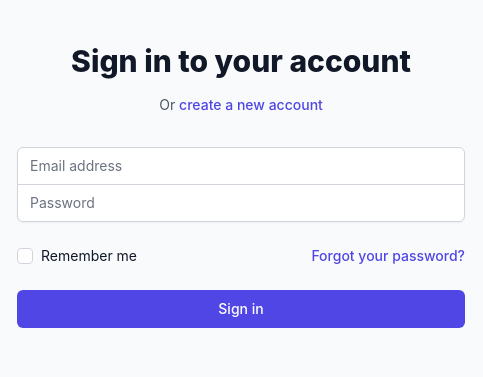
Test: Login Component › shows validation errors for invalid inputs
The width and height of the screenshot is (483, 377).
Click the button "Sign in" at x=241, y=308, box [17, 290, 465, 328]
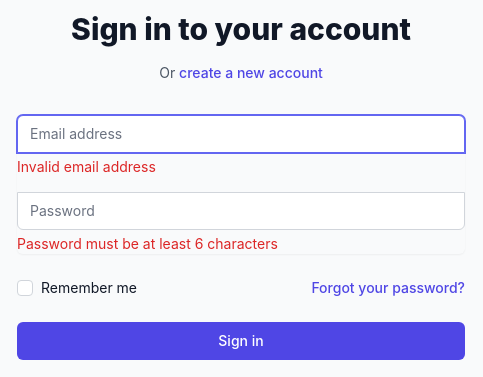
Now the text "Invalid email address" is shown, box [17, 158, 156, 174]
Now the text "Password must be at least 6 characters" is shown, box [17, 234, 278, 252]
